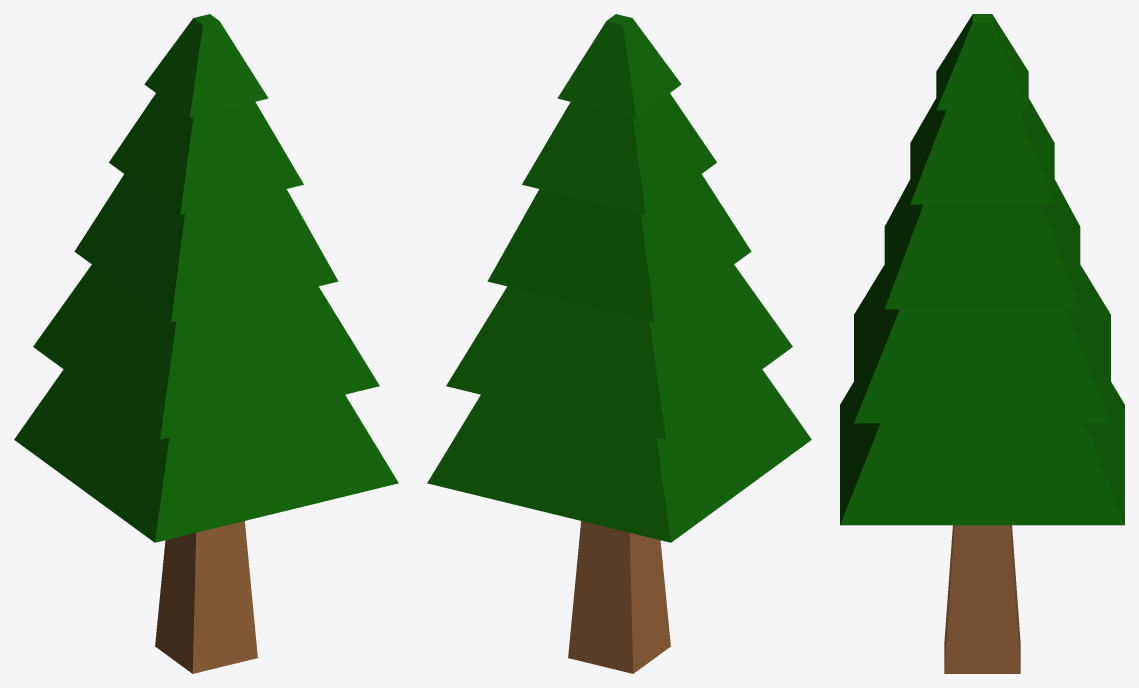
Rendered from variant_1_dark.glb.
3 views of the same model, side by side, from view 1: azimuth 30°, elevation 25°; view 2: azimuth 150°, elevation 25°; view 3: azimuth 270°, elevation 25° (orthographic).
Visible parts, largest first — view 1: Cube.008; view 2: Cube.008; view 3: Cube.008.
Part boxes in pixels (x1=…): Cube.008: x1=14, y1=14, x2=398, y2=673; Cube.008: x1=427, y1=14, x2=811, y2=673; Cube.008: x1=840, y1=14, x2=1124, y2=673.
Size of the model in its own units: 0.6148 by 1.52 by 0.6148.
